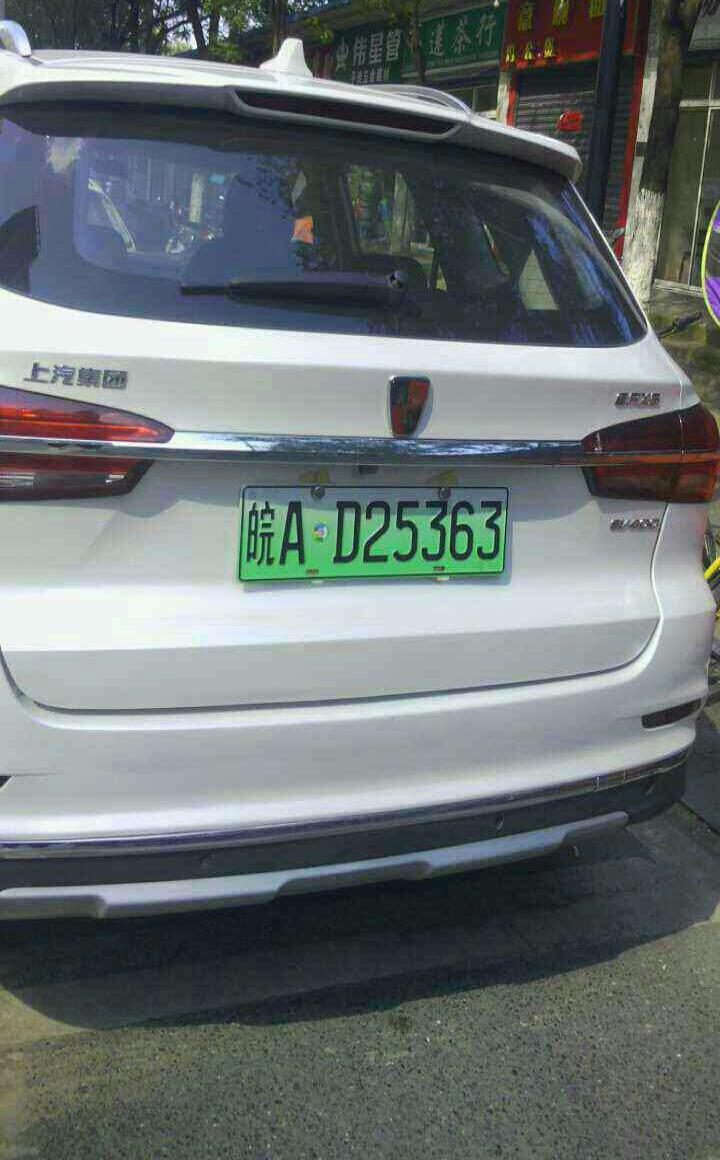car_id: (239, 491, 511, 580)
